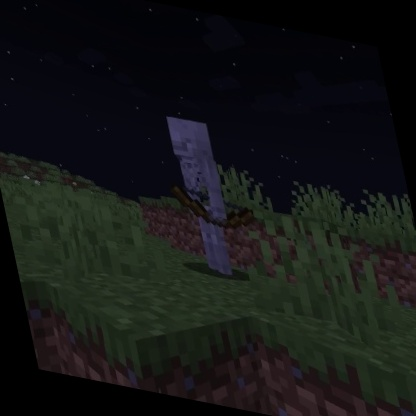skeleton: (148, 107, 272, 287)
